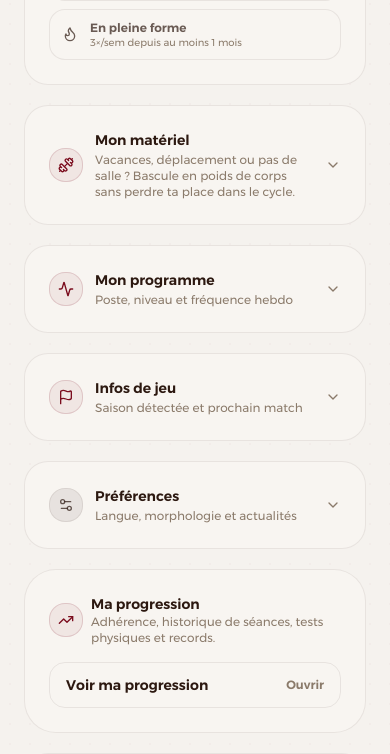
Test: ProfilePage · Ma situation › renders "Ma situation" section instead of old season selector
(page scrolled)
Click the button "Infos de jeu Saison détectée et prochain match" at (195, 397), box [25,354,365,440]
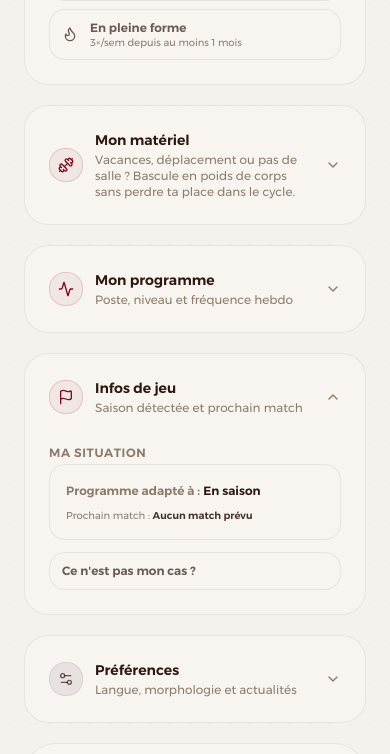
expect the element with test id "ma-situation" is shown: met, box [49,440,341,590]
